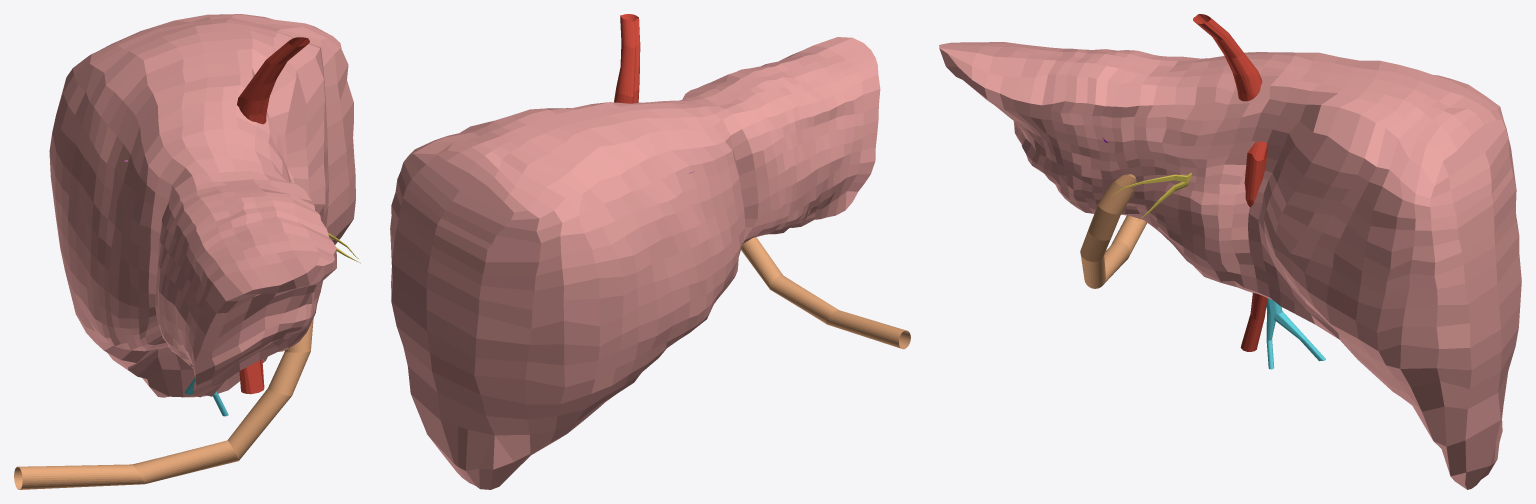
Rendered from Veinswithtranslucentouteryes.glb.
The picture shows the model from 3 angles, left to right: view 1: azimuth 30°, elevation 25°; view 2: azimuth 150°, elevation 25°; view 3: azimuth 270°, elevation 25°; orthographic projection. The views are drawn at different scales.
Parts seen in each view (by area): view 1: Cube, Circle; view 2: Cube, Circle; view 3: Cube, Circle.
Part boxes in pixels (x1,y1,x2,y2): Cube: (49, 14, 355, 397); Circle: (14, 37, 360, 489); Cube: (390, 37, 880, 489); Circle: (614, 14, 910, 349); Cube: (939, 42, 1521, 489); Circle: (1080, 14, 1325, 369).
Size of the model in its own units: 60.91 by 57.87 by 68.83.
